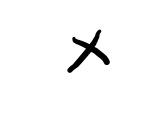mult: (68, 28, 110, 73)
